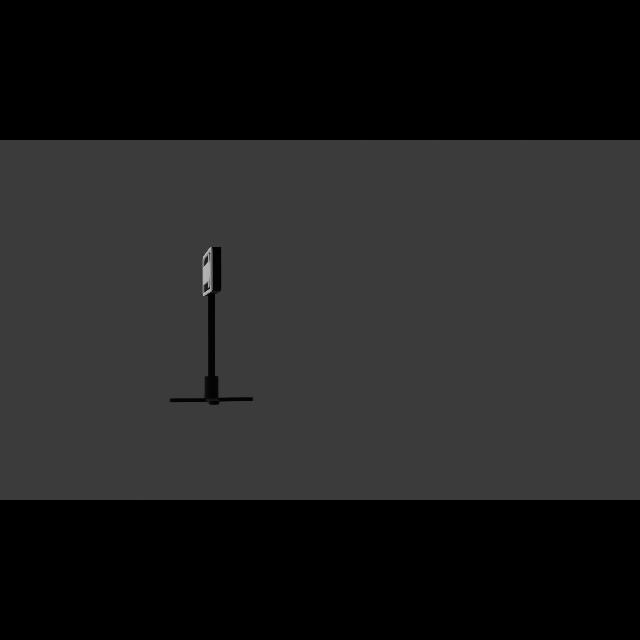sign_oneway_right: (203, 247, 223, 297)
